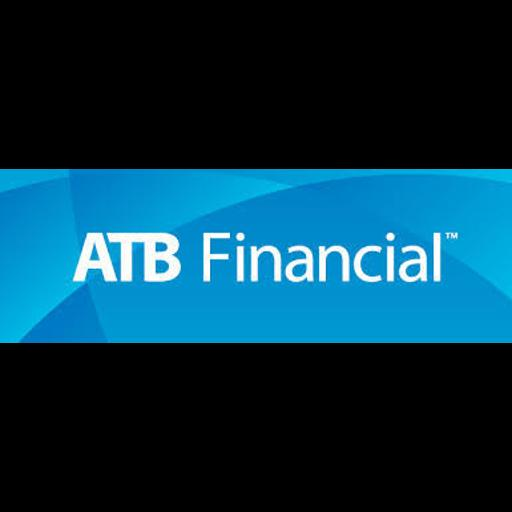ATB Financial: (0, 169, 512, 343)
